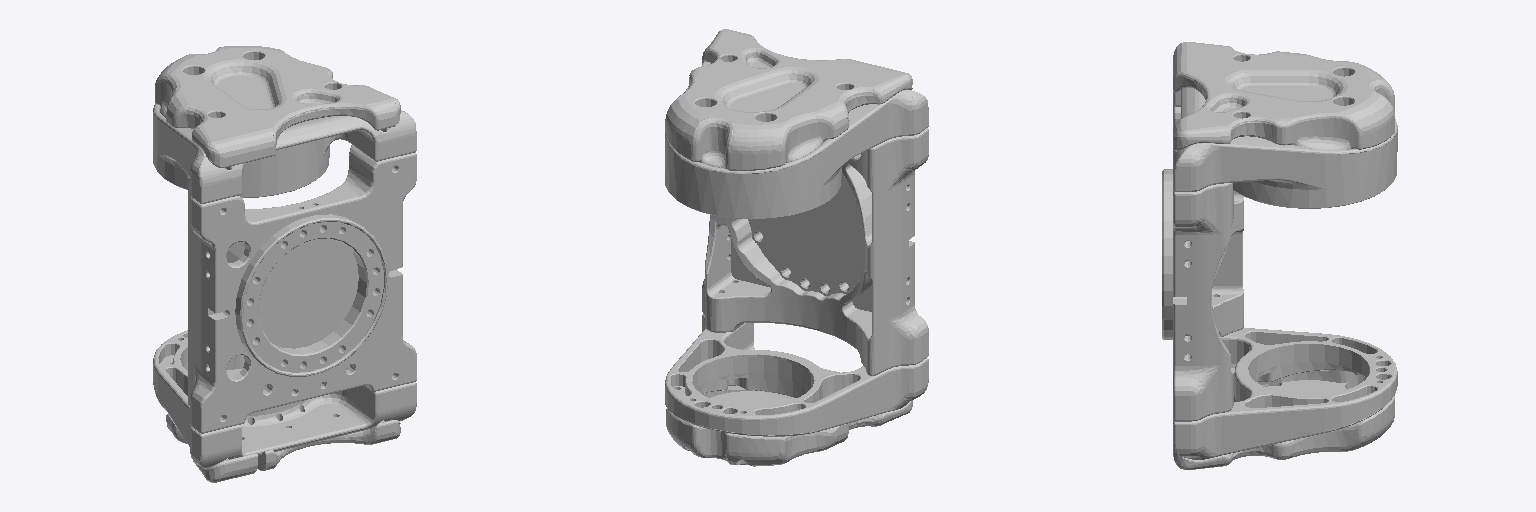
The model's file is waistPitch.obj.
3 renders of one model, left to right at view 1: azimuth 30°, elevation 25°; view 2: azimuth 150°, elevation 25°; view 3: azimuth 270°, elevation 25°, orthographic.
Visible parts, largest first — view 1: waistPitch; view 2: waistPitch; view 3: waistPitch.
Boxes of the visible parts, <box> form: waistPitch: <box>153,46,416,482</box>; waistPitch: <box>665,29,928,466</box>; waistPitch: <box>1162,42,1397,469</box>.
Bounding box in the file's own units: 0.092 × 0.1377 × 0.0865.